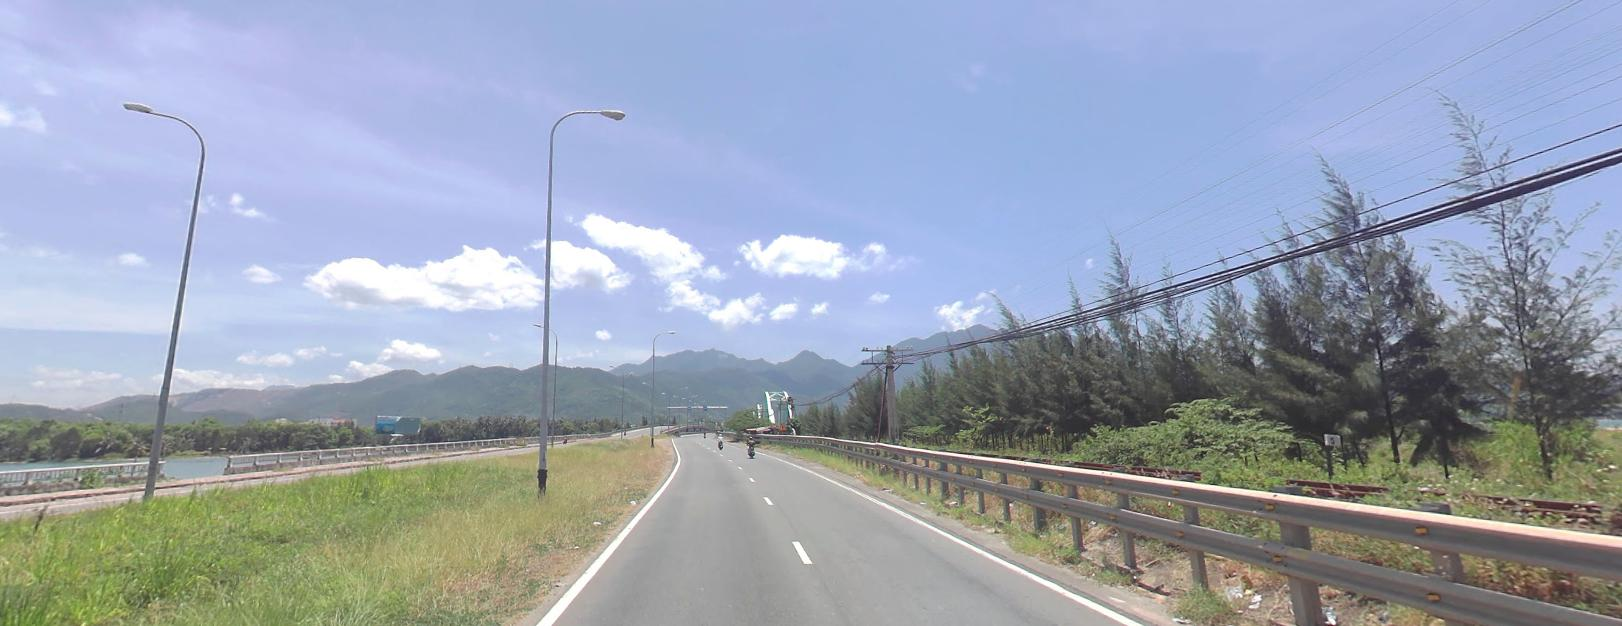Nguy hiem: (778, 422, 787, 429)
